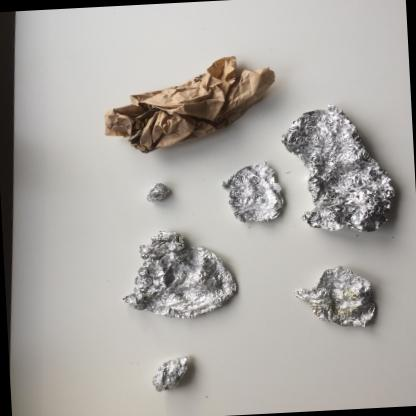Metal: (280, 103, 393, 231), (120, 229, 235, 317), (292, 265, 373, 326), (220, 160, 282, 222), (151, 354, 187, 391), (144, 182, 168, 201)
Paper: (103, 54, 274, 152)
